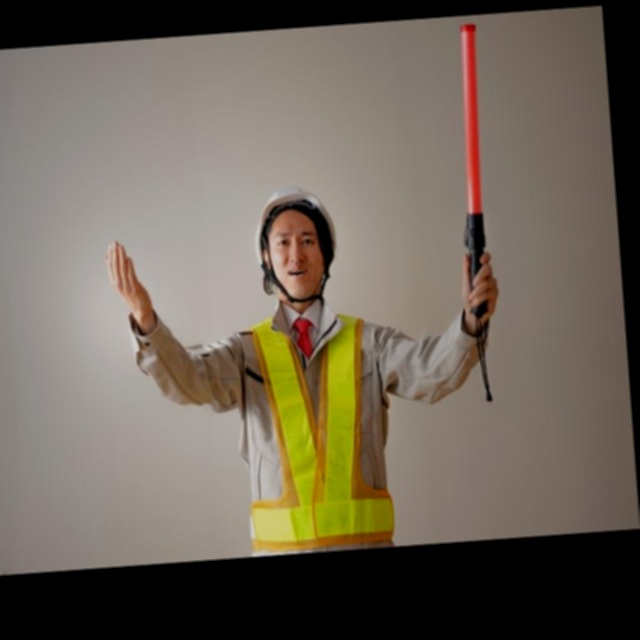Con_Casco: (253, 181, 341, 301)
Con_Chaleco: (238, 306, 400, 552)
